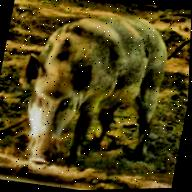boar: (11, 0, 192, 167)
